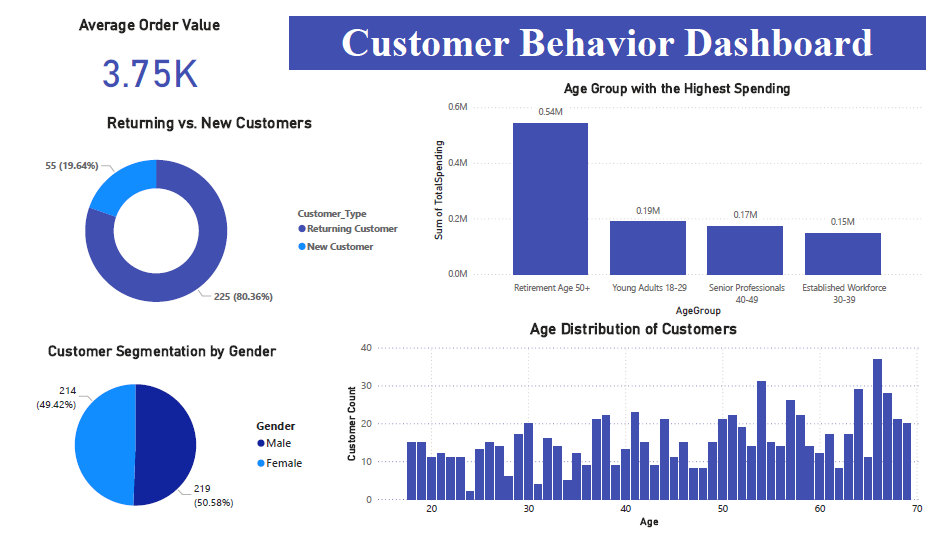

Layout of this report page (visuals, bound fields, positions):
{"tool":"powerbi","page":{"name":"CustomerBehavior","canvas":[1280,720],"ordinal":2},"visuals":[{"type":"textbox","box":[10.1,0,907.2,57.6],"z":0},{"type":"textbox","box":[388.3,0,891.7,75],"z":1000},{"type":"pieChart","title":"Customer Segmentation by Gender","fields":{"Y":["Sum(CB-CustomerSegmentationbyGender.Customer_Count)"],"Category":["CB-CustomerSegmentationbyGender.Gender"]},"box":[0,456.7,423.3,263.3],"z":2000},{"type":"clusteredColumnChart","title":"Age Distribution of Customers","fields":{"Category":["CB-AgeDistributionofCustomers.Age"],"Y":["Sum(CB-AgeDistributionofCustomers.Customer_Count)"]},"box":[463.3,425,816.7,295],"z":3000},{"type":"lineClusteredColumnComboChart","title":"Age Group with the Highest Spending","fields":{"Category":["CB-AgeGroupwithHighestSpending.AgeGroup"],"Y":["Sum(CB-AgeGroupwithHighestSpending.TotalSpending)"]},"box":[585,90,695,335],"z":4000},{"type":"card","title":"Average Order Value","fields":{"Values":["Sum(CB-AverageOrderValue.Average_Order_Value)"]},"box":[0,0,388.3,121.7],"z":6000},{"type":"donutChart","title":"Returning vs. New Customers","fields":{"Category":["CB-ReturningvsNewCustomers.Customer_Type"],"Y":["Sum(CB-ReturningvsNewCustomers.Customer_Count)"]},"box":[0,136.7,555,303.3],"z":7000}]}

Visuals, with their boxes in screenshot pixels (x1, y1, x2, y2), scaled from the page's 1280x720 canvas onto the 939x538 screenshot:
textbox: <bbox>7, 0, 673, 43</bbox>
textbox: <bbox>285, 0, 938, 56</bbox>
"Customer Segmentation by Gender" pieChart: <bbox>0, 341, 311, 537</bbox>
"Age Distribution of Customers" clusteredColumnChart: <bbox>340, 318, 938, 537</bbox>
"Age Group with the Highest Spending" lineClusteredColumnComboChart: <bbox>429, 67, 938, 318</bbox>
"Average Order Value" card: <bbox>0, 0, 285, 91</bbox>
"Returning vs. New Customers" donutChart: <bbox>0, 102, 407, 329</bbox>
